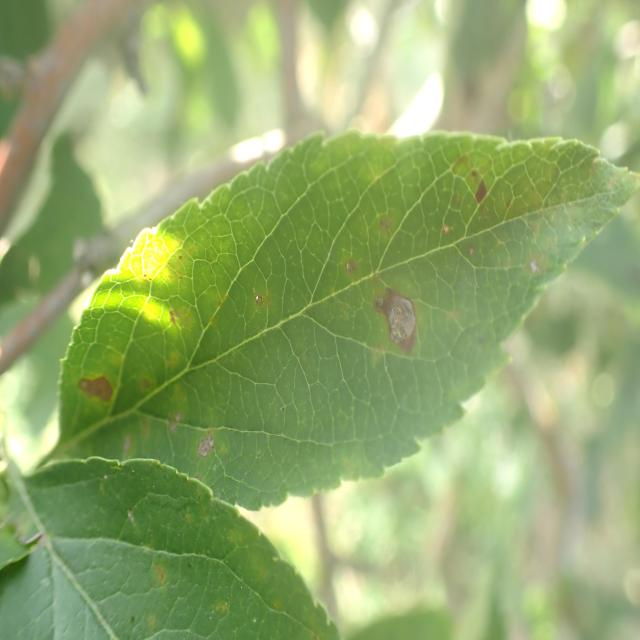frog-eye-leaf-spot: (50, 128, 640, 511)
